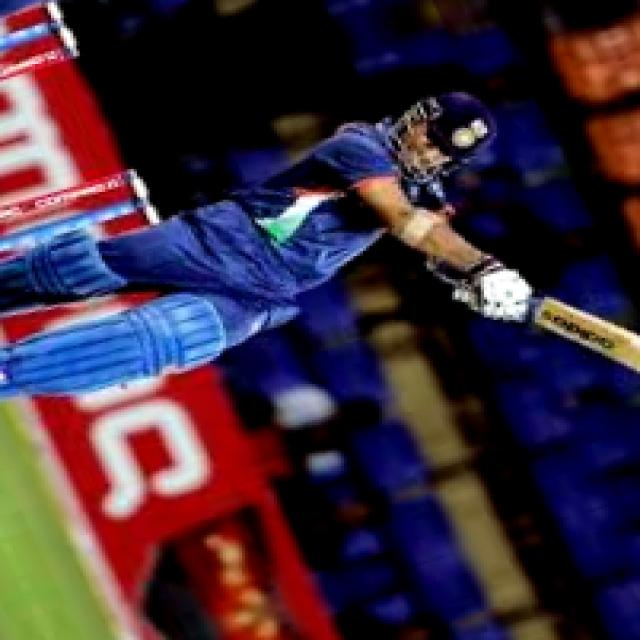toe: (617, 322, 640, 381)
